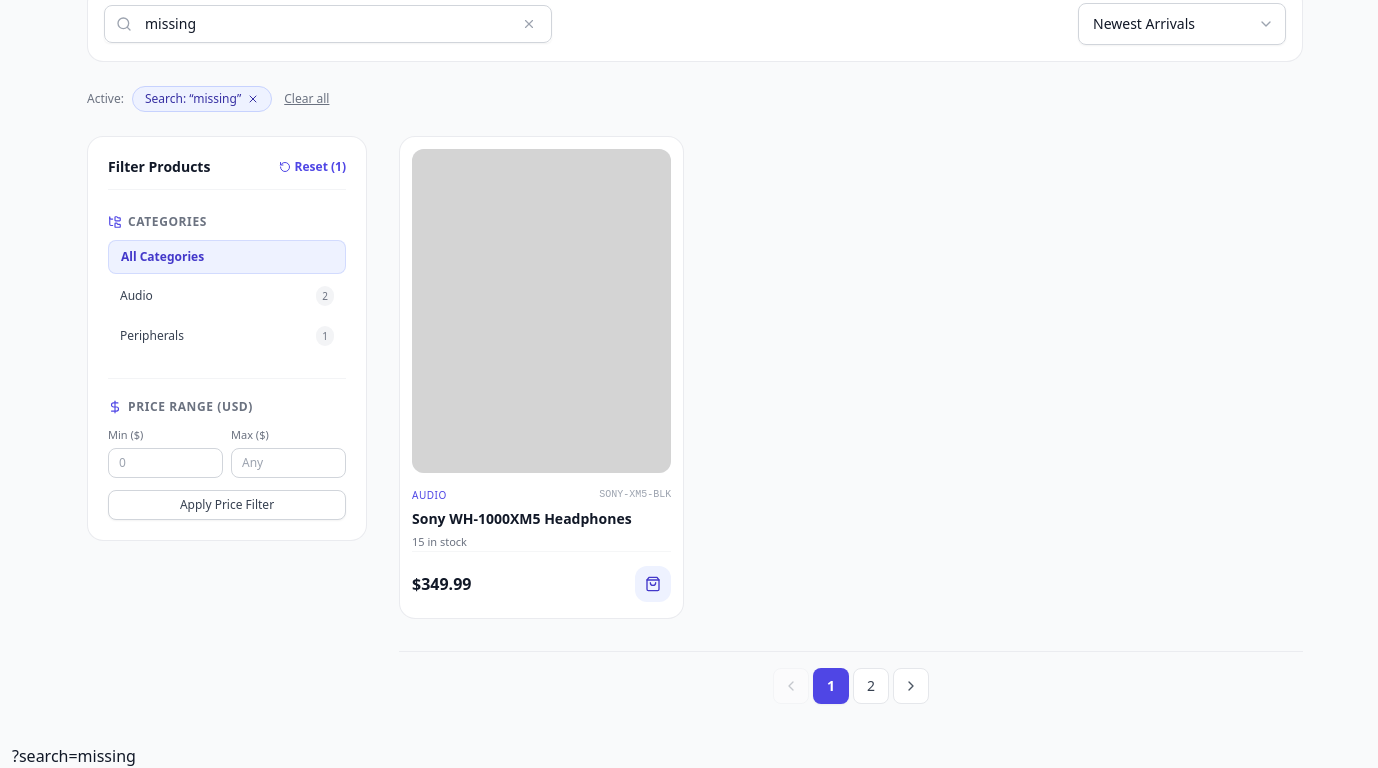
ProductsPage Catalogue & Discovery › displays empty state with filter reset action and supports pagination
The image size is (1378, 768).
Later steps or results of the test are not shown.
(page scrolled)
Check: the heading "Sony WH-1000XM5 Headphones" is shown, box [412,509,632,528]
Click the button "2" at (871, 686), box [853,668,889,704]
(page scrolled)
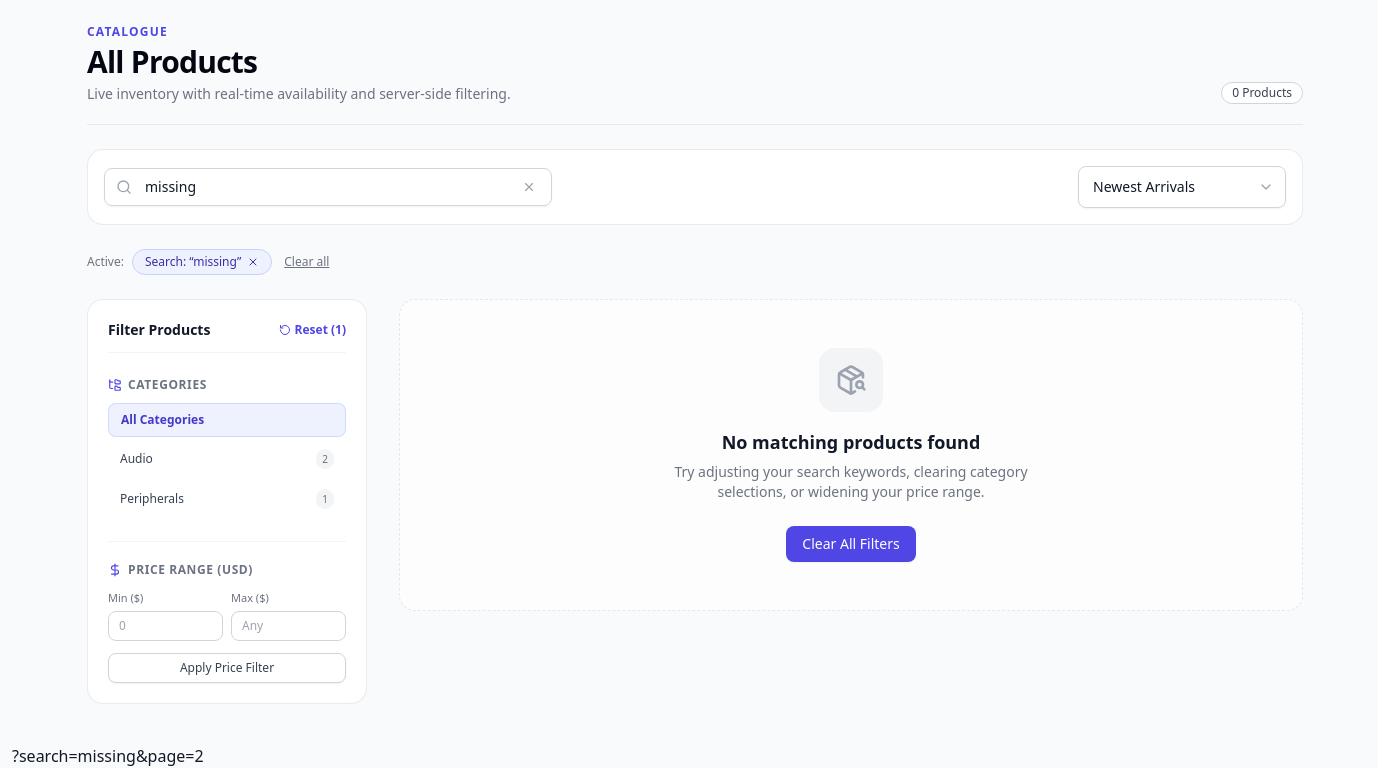
Check: the heading "No matching products found" is shown, box [722,428,980,456]
